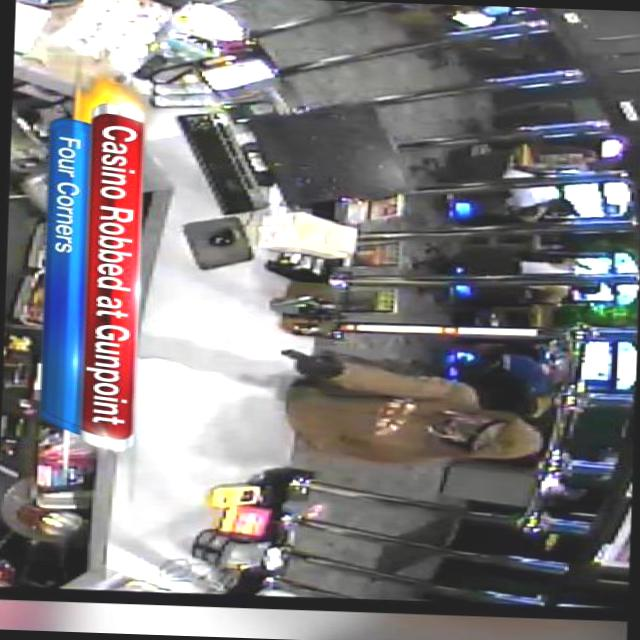handgun: (266, 332, 341, 389)
